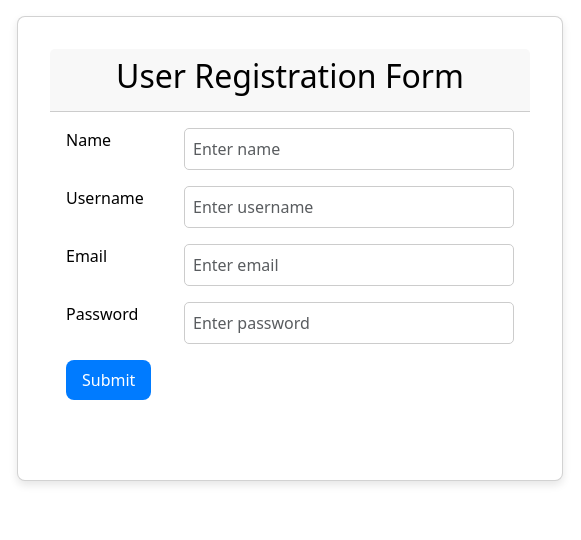
it: RegisterComponent › displays error message when registration fails due to existing user
// Fill in the form fields
Type "Jane Doe" into the field with placeholder "Enter name". click: (349,149)
box: [184,128,514,170]
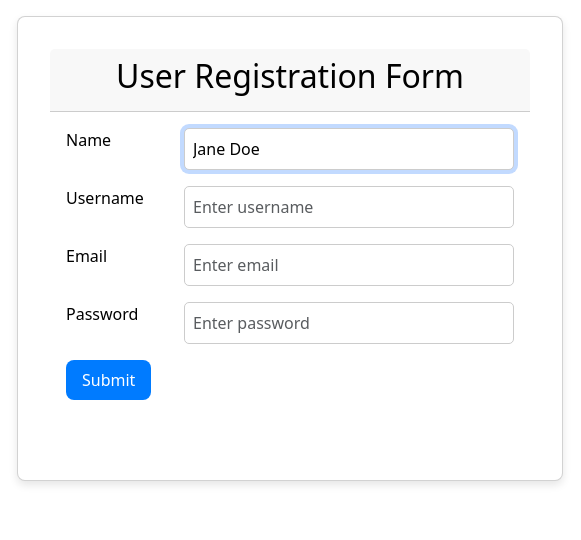
Type "janedoe" into the field with placeholder "Enter username". click: (349,207)
box: [184,186,514,228]
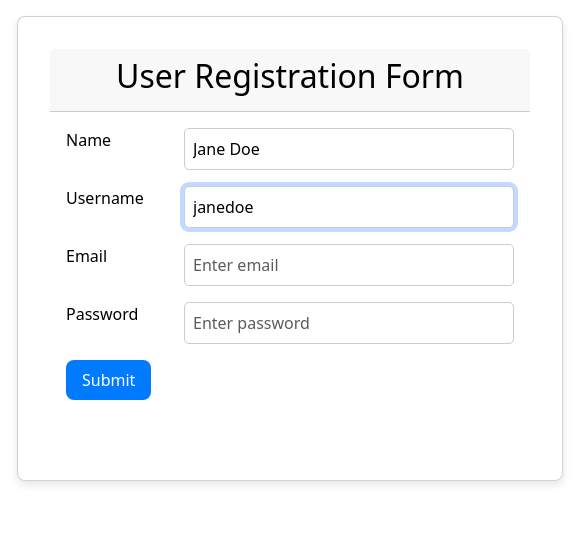
Type "jane@example.com" into the field with placeholder "Enter email". click: (349,265)
box: [184,244,514,286]
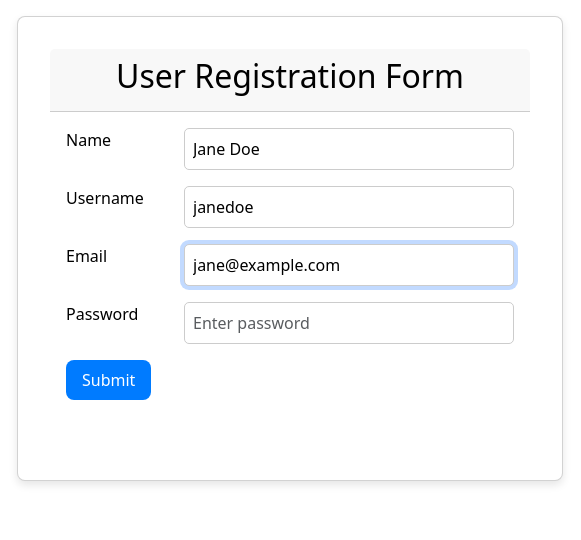
Type "password123" into the password field with placeholder "Enter password". click: (349,323)
box: [184,302,514,344]
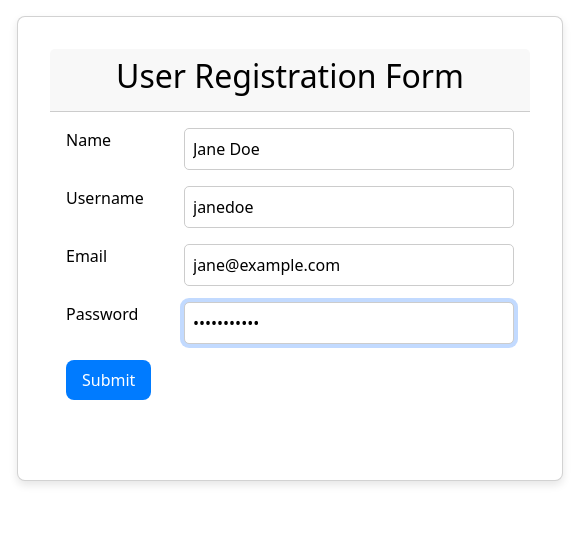
Click the button "Submit". click: (109,380)
box: [66,360,151,400]
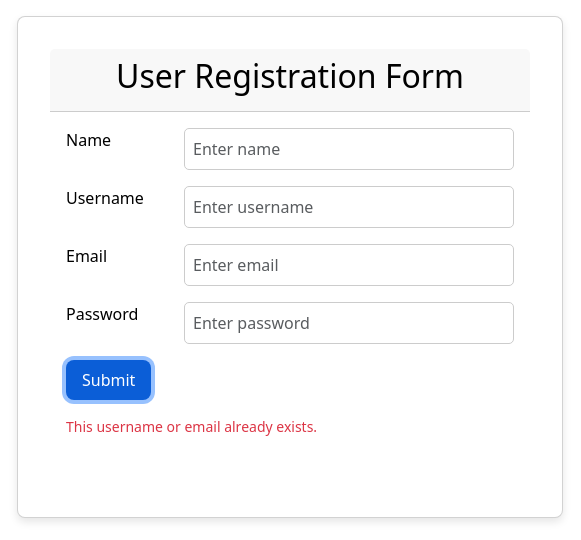
Result: the text "This username or email already exists." is shown at [66,417,317,436]
Result: the field with placeholder "Enter name" is empty at [184,128,514,170]
Result: the field with placeholder "Enter username" is empty at [184,186,514,228]
